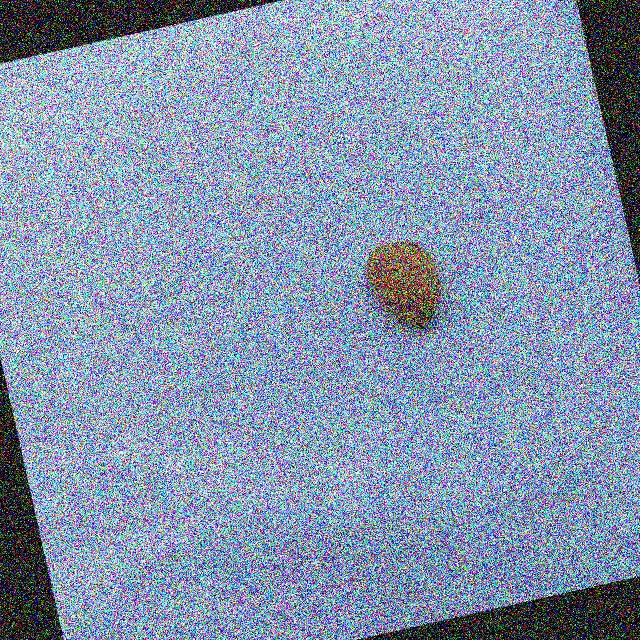grade2: (355, 230, 454, 341)
